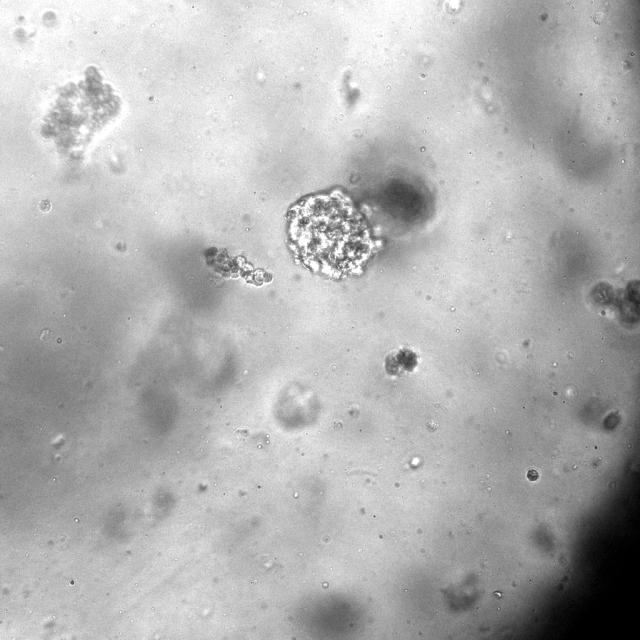organoid: (285, 188, 376, 279), (41, 65, 124, 160), (204, 246, 272, 286), (588, 280, 639, 324), (384, 347, 419, 376), (525, 467, 540, 483)
